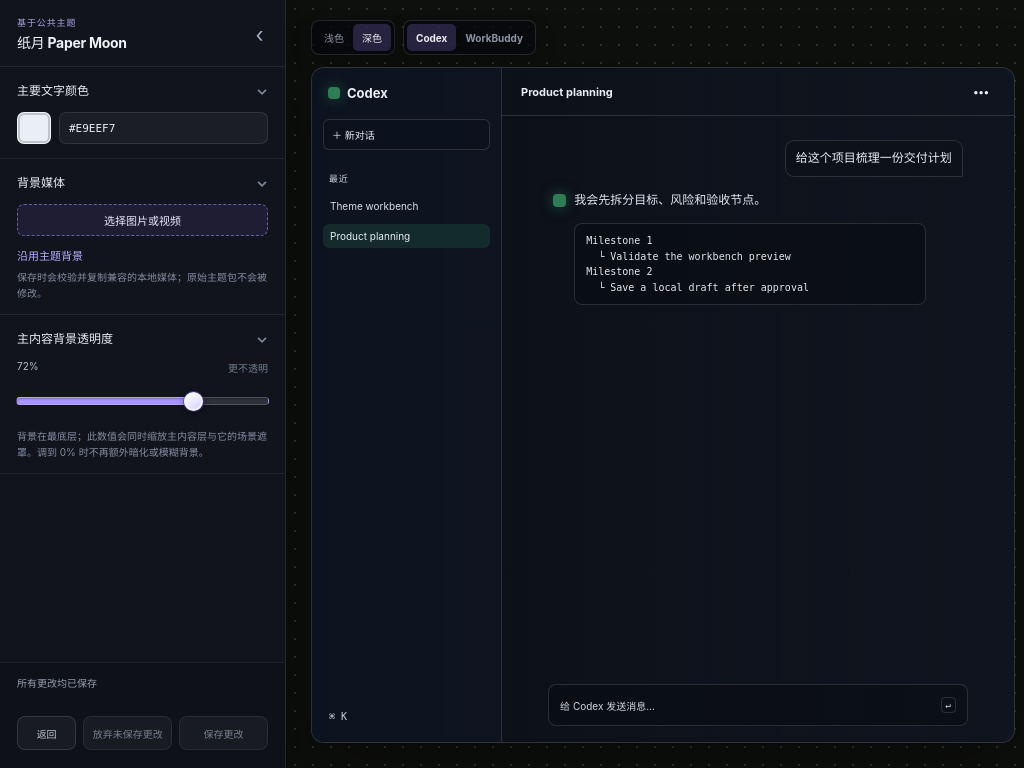
Test: ThemeWorkbench › tracks the complete draft, persists it only after a change, and confirms the saved state
This screenshot has width=1024, height=768.
Expected: the button "保存更改" is disabled, [179,716,268,750]
Replace the text in the field named "主要文字颜色 hex" with "#FF00AA" at (164, 128), box [59,112,268,144]
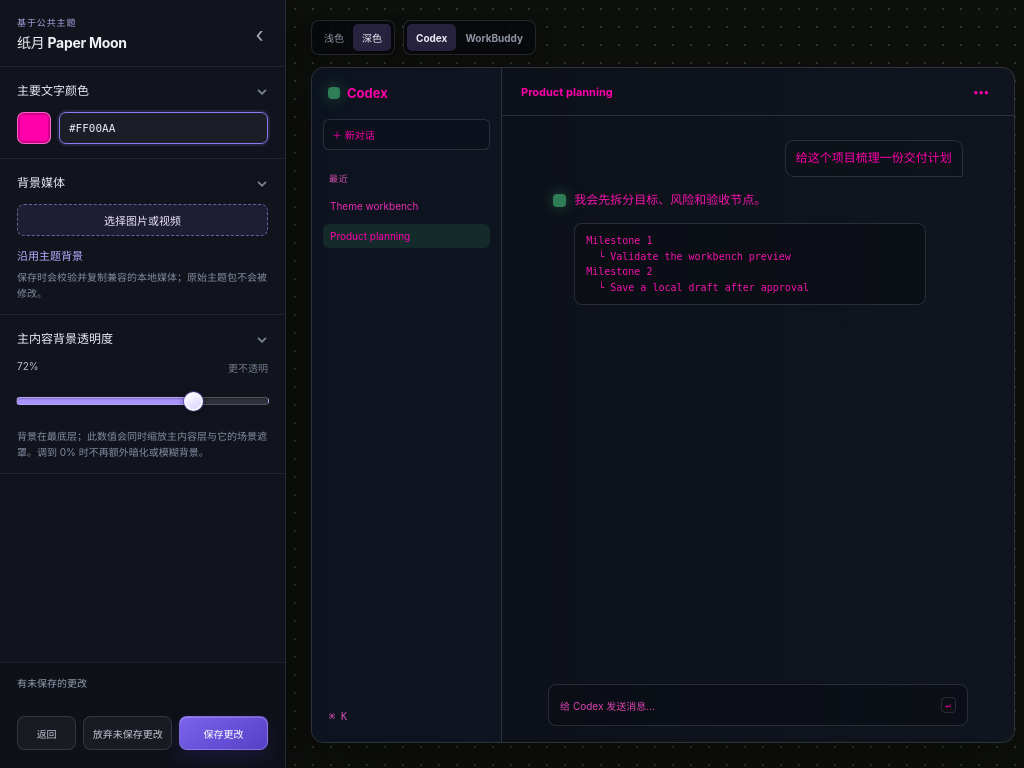
Now the button "保存更改" is enabled
Click the button "保存更改" at (224, 733), box [179,716,268,750]
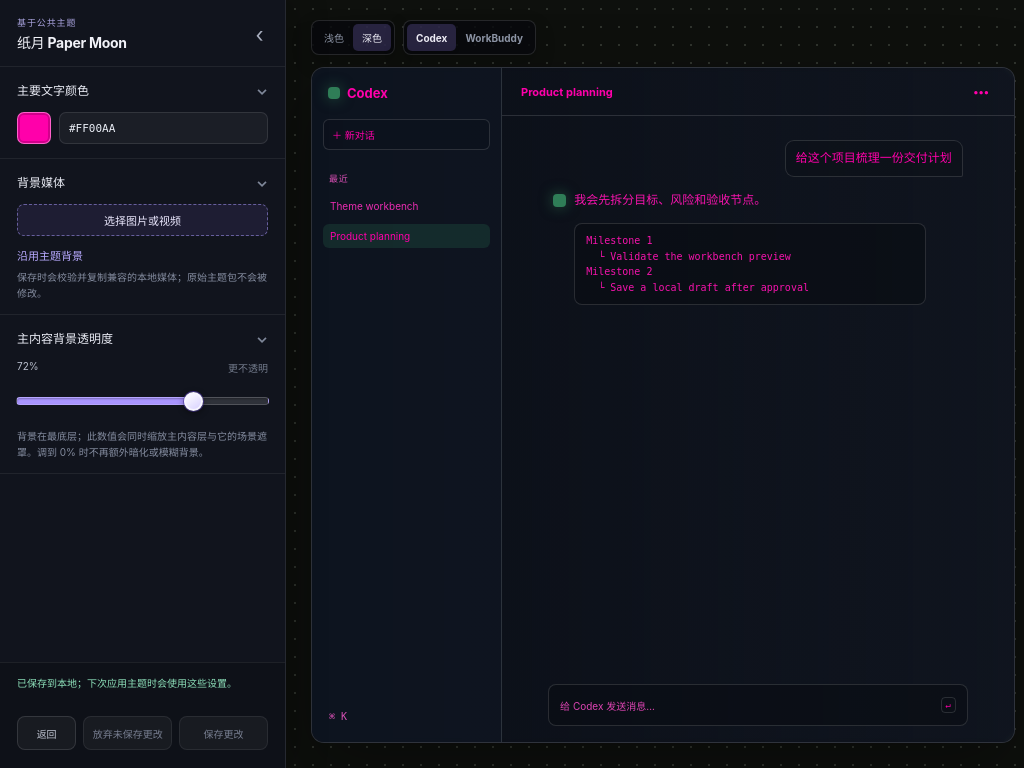
Now the text "已保存到本地；下次应用主题时会使用这些设置。" is shown, box [17,677,237,689]
Now the button "保存更改" is disabled, box [179,716,268,750]
